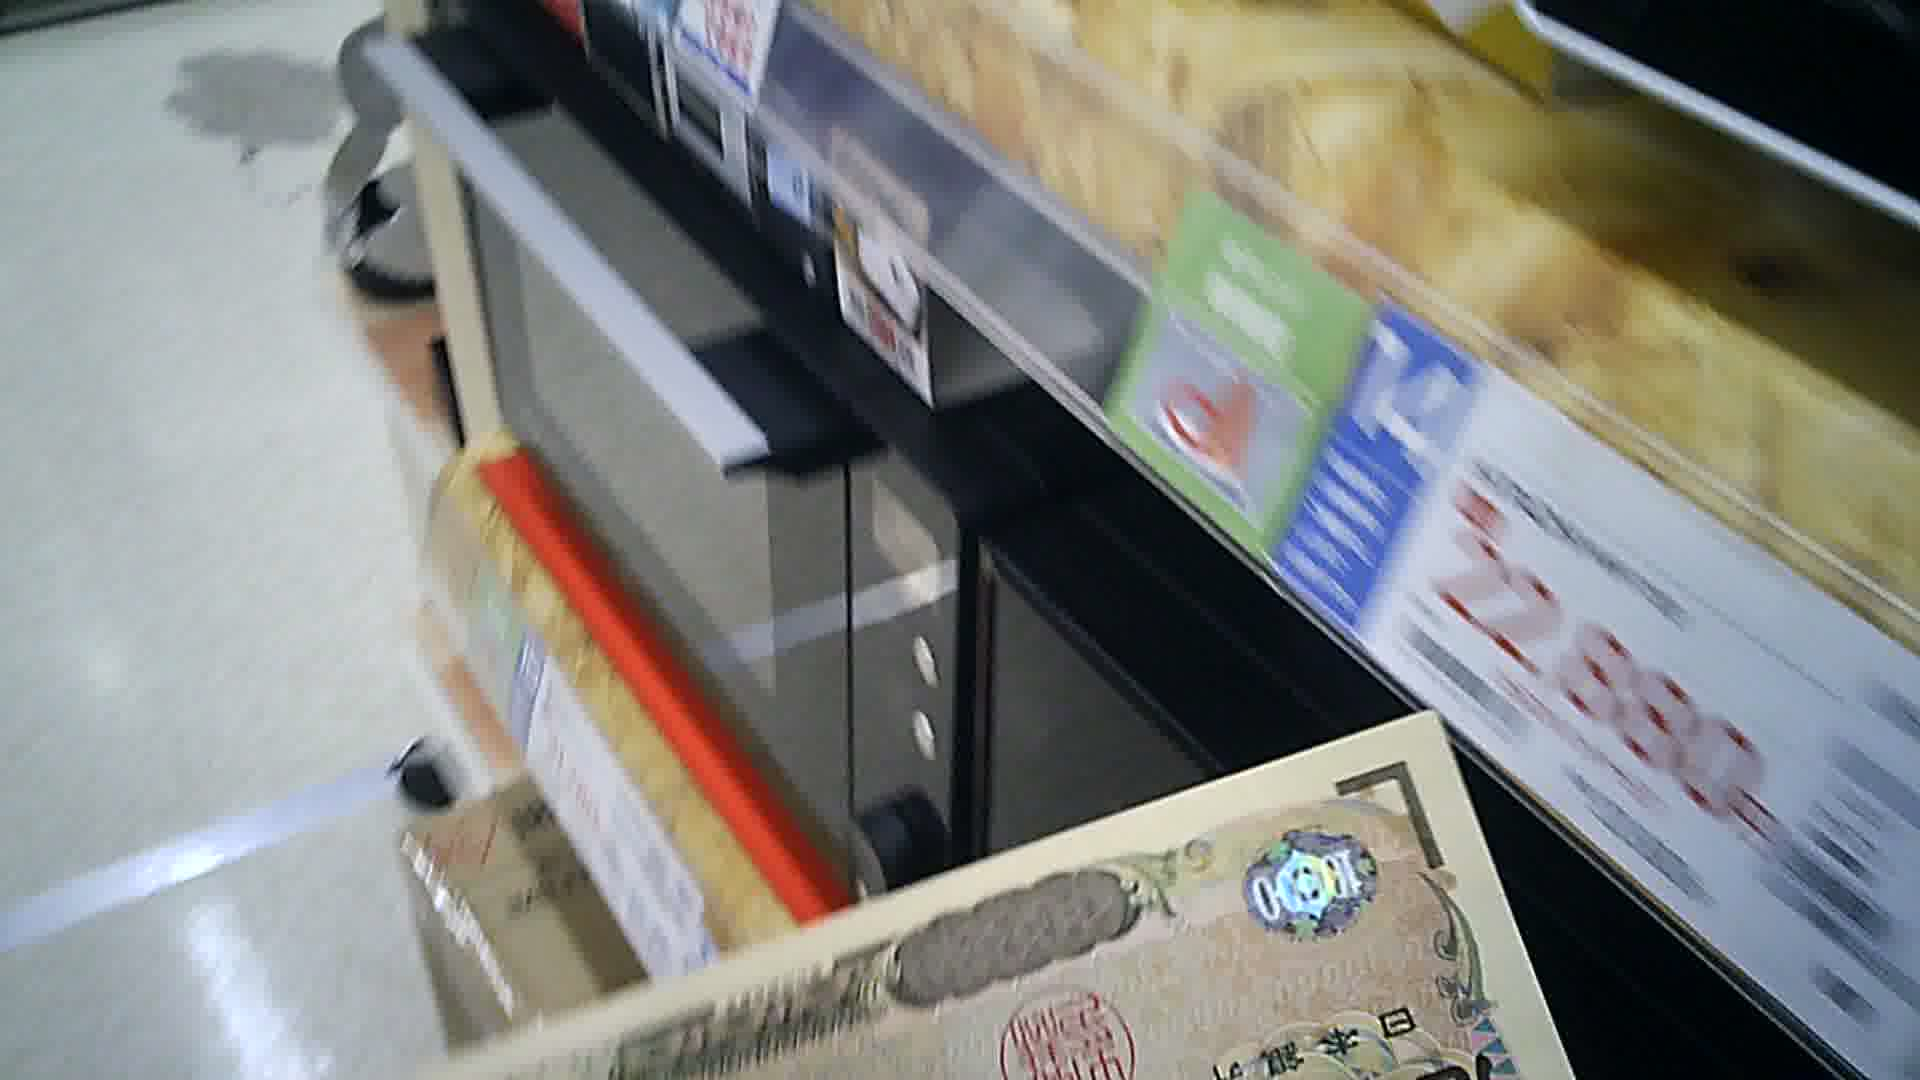10,000 Yen: (446, 731, 1581, 1079)
